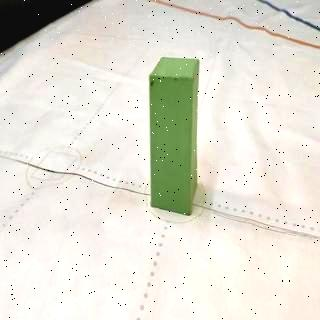greenbox: (148, 56, 202, 216)
